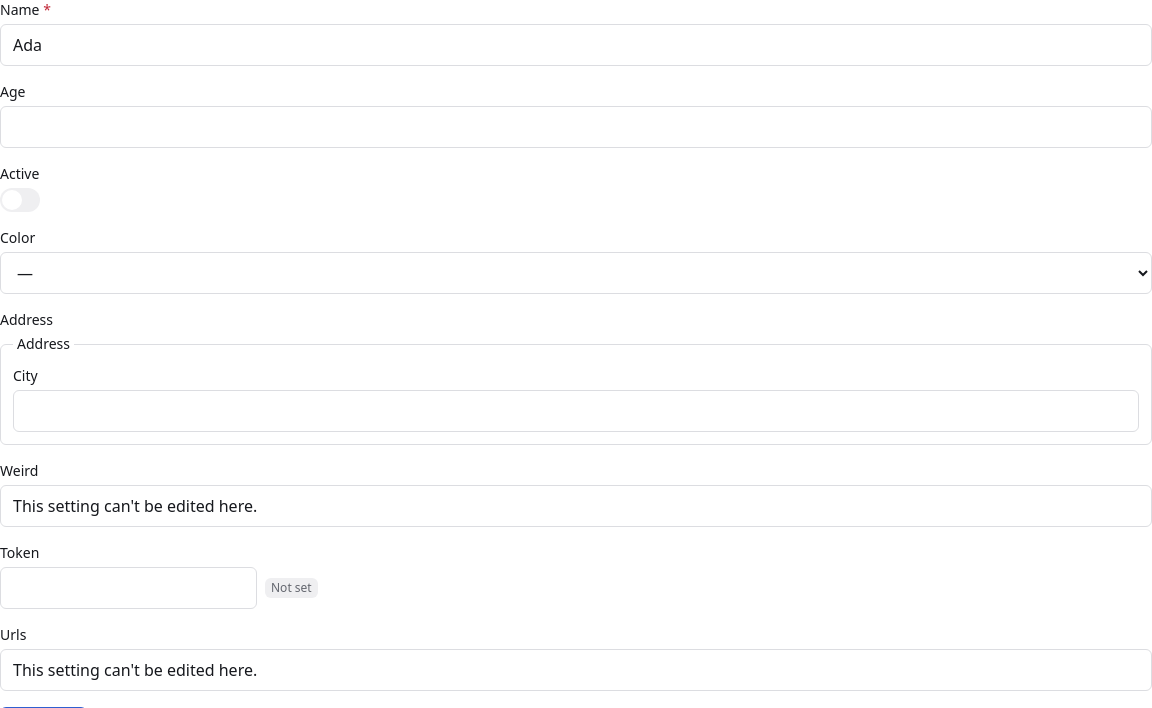
Test: warns before navigating away with unsaved changes
Replace the text in the field labelled "Name *" with "Grace" at [576, 45], box [0,24,1151,66]
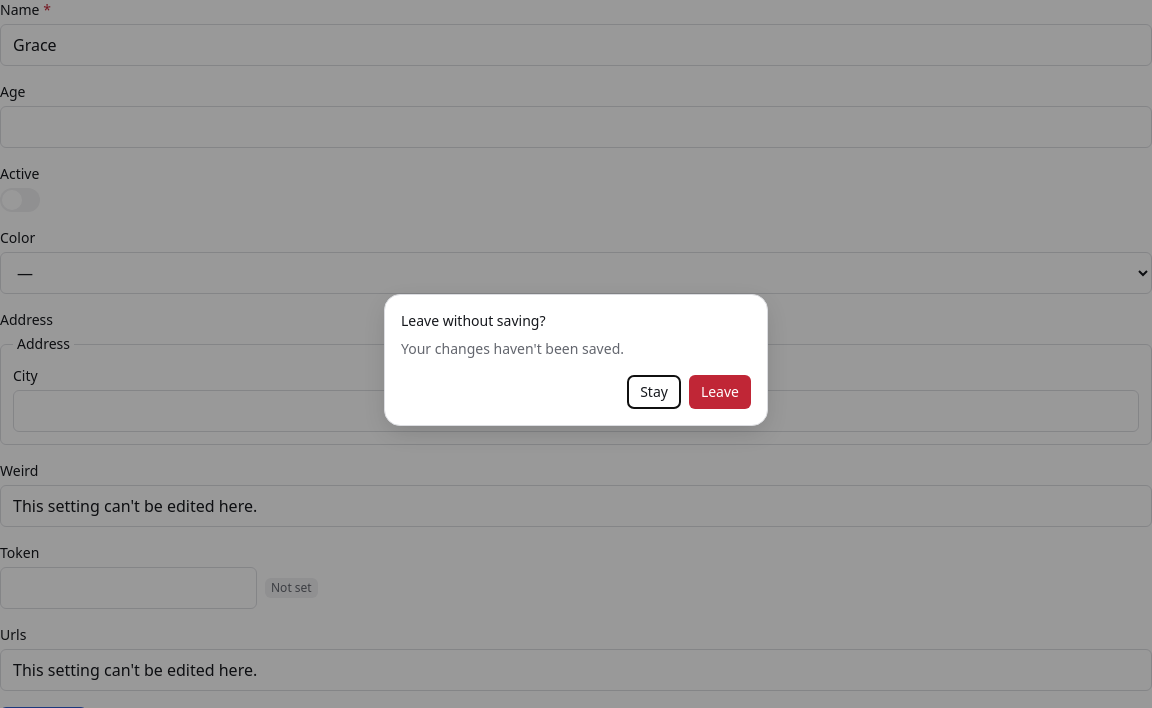
Expected: the dialog is shown, [384,294,768,426]
Expected: the heading "Leave without saving?" is shown, [401,311,546,330]
